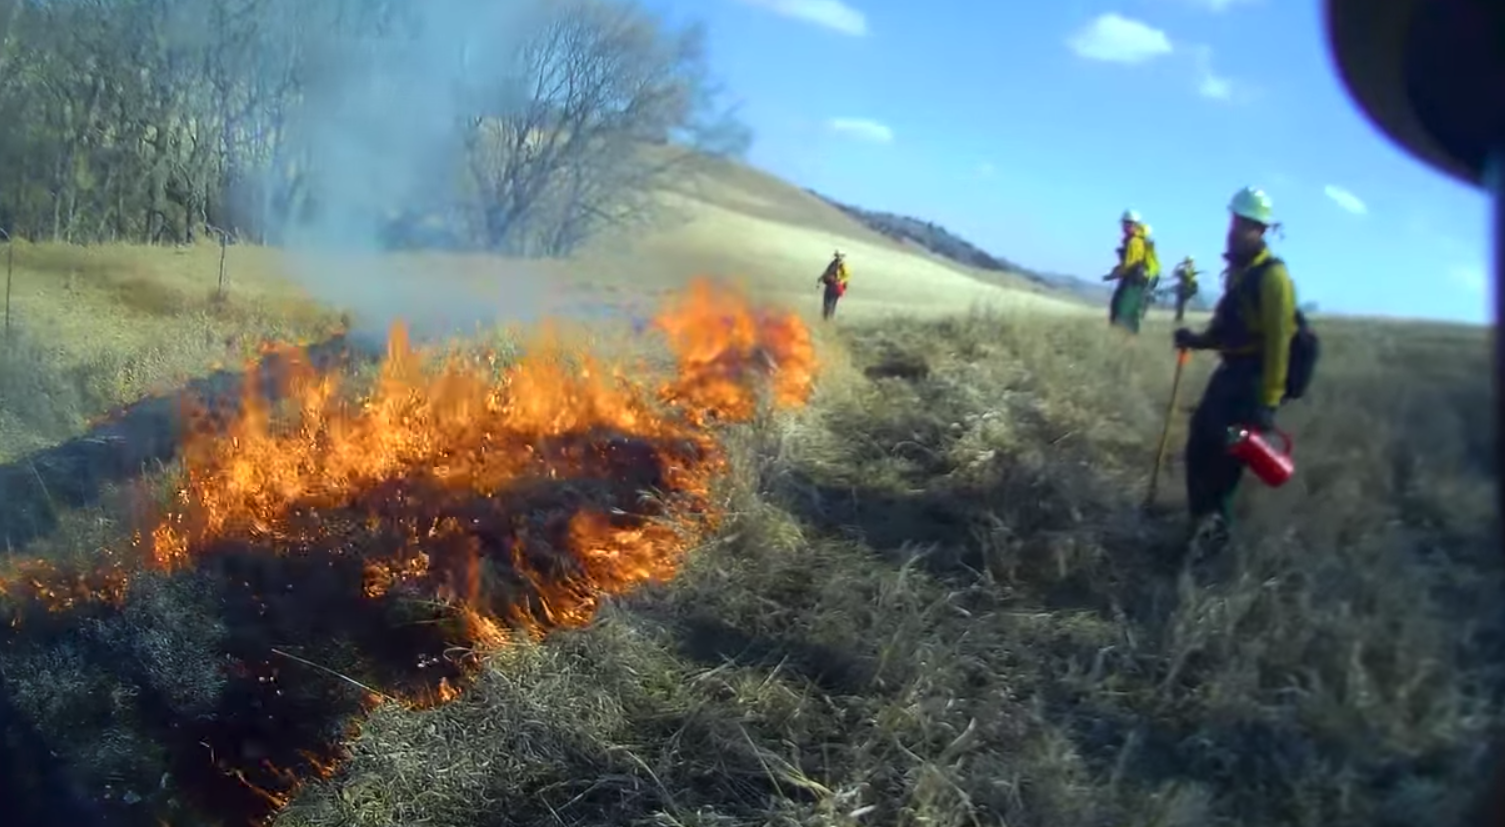fire: (196, 306, 783, 603)
